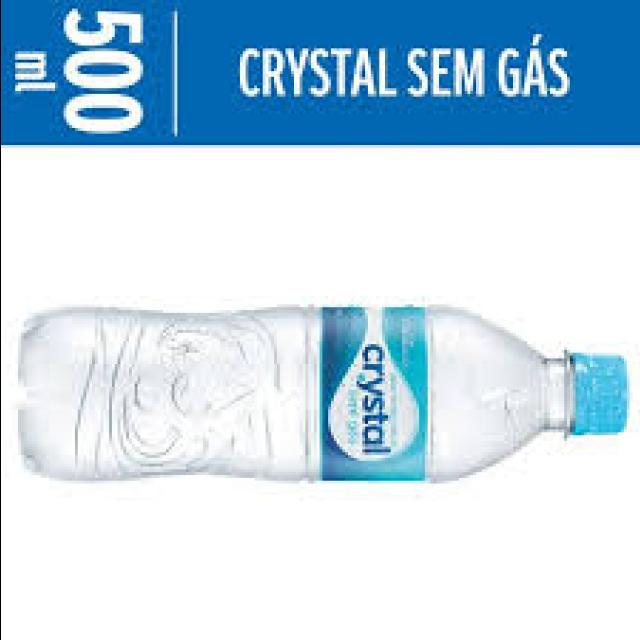bottom: (4, 305, 114, 497)
cap: (551, 319, 626, 449)
